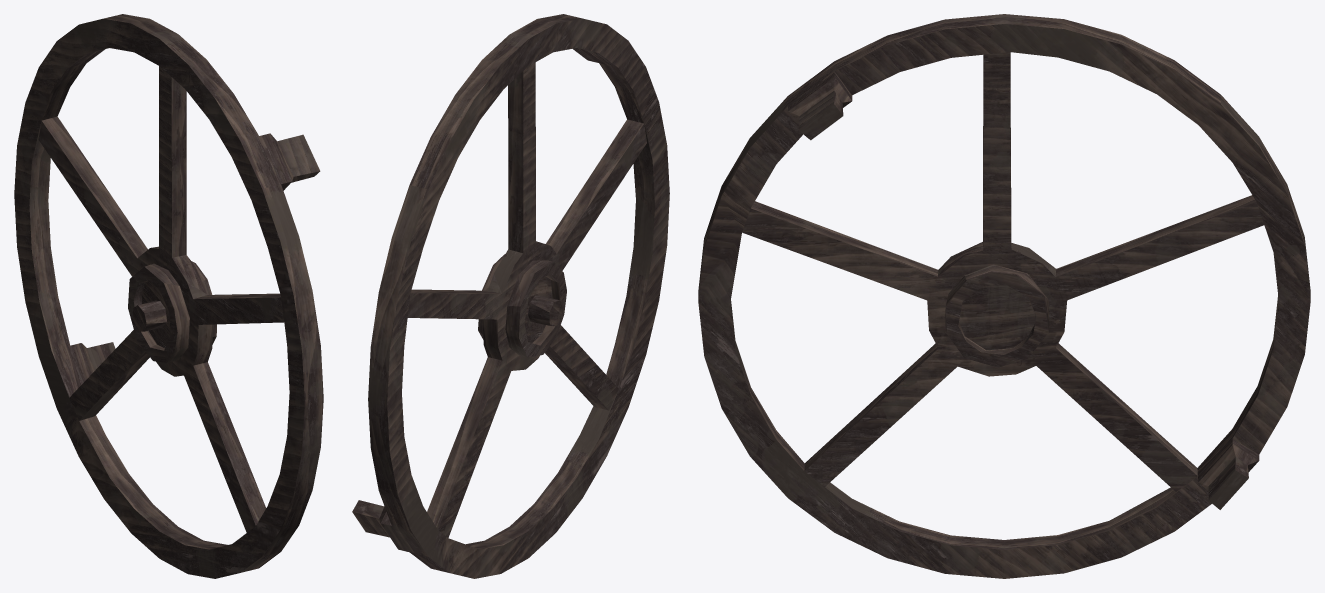
The model's file is wheel-jenny.glb.
The picture shows the model from 3 angles, left to right: view 1: azimuth 30°, elevation 25°; view 2: azimuth 150°, elevation 25°; view 3: azimuth 270°, elevation 25°; orthographic projection. The views are drawn at different scales.
Visible parts, largest first — view 1: Cylinder.067; view 2: Cylinder.067; view 3: Cylinder.067.
Part boxes in pixels (x1,y1,x2,y2): Cylinder.067: [14, 14, 323, 578]; Cylinder.067: [352, 14, 669, 578]; Cylinder.067: [698, 14, 1310, 578].
Size of the model in its own units: 0.1959 by 1.1 by 1.1.
Materials: 1 (1 with a texture image).
